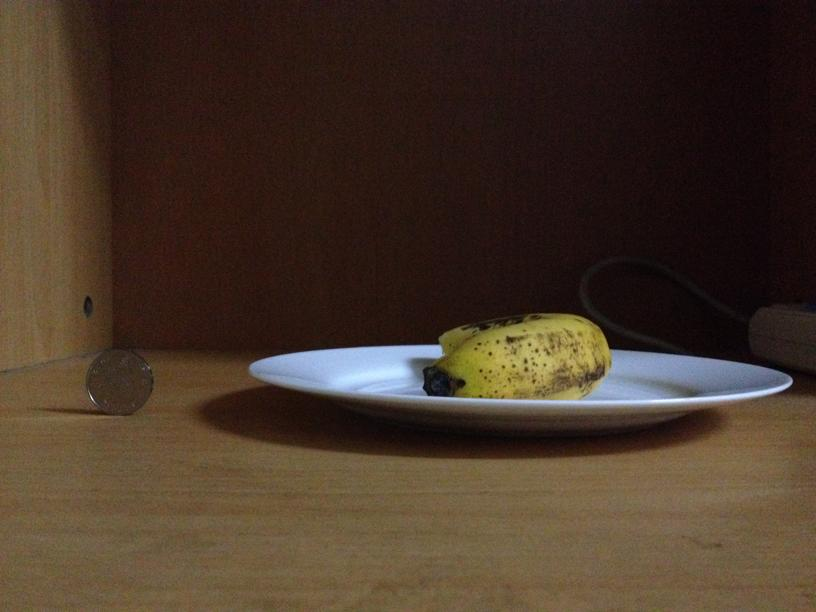banana: (433, 315, 611, 396)
coin: (84, 349, 152, 414)
